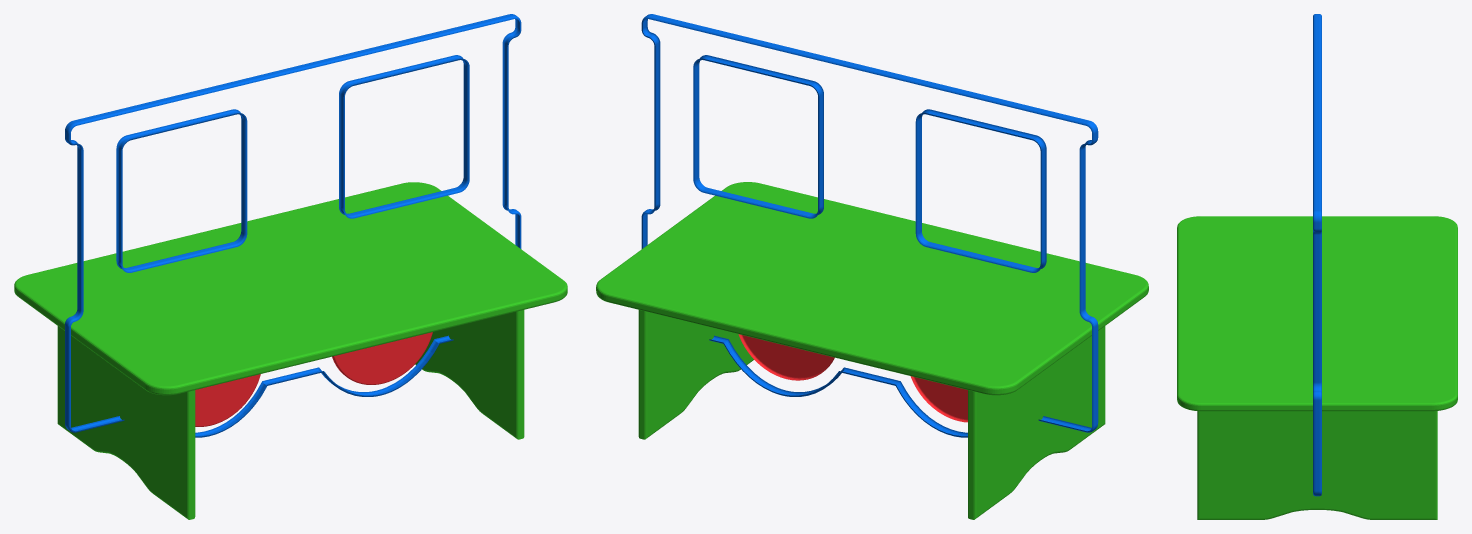
3 renders of one model, left to right at view 1: azimuth 30°, elevation 25°; view 2: azimuth 150°, elevation 25°; view 3: azimuth 270°, elevation 25°, orthographic. The views are drawn at different scales.
Parts seen in each view (by area): view 1: D_51; view 2: D_51; view 3: D_51.
Part boxes in pixels (<box>): D_51: <box>14,14,567,519</box>; D_51: <box>596,14,1148,519</box>; D_51: <box>1177,14,1457,519</box>.
Bounding box in the file's own units: 108 × 82.5 × 63.
